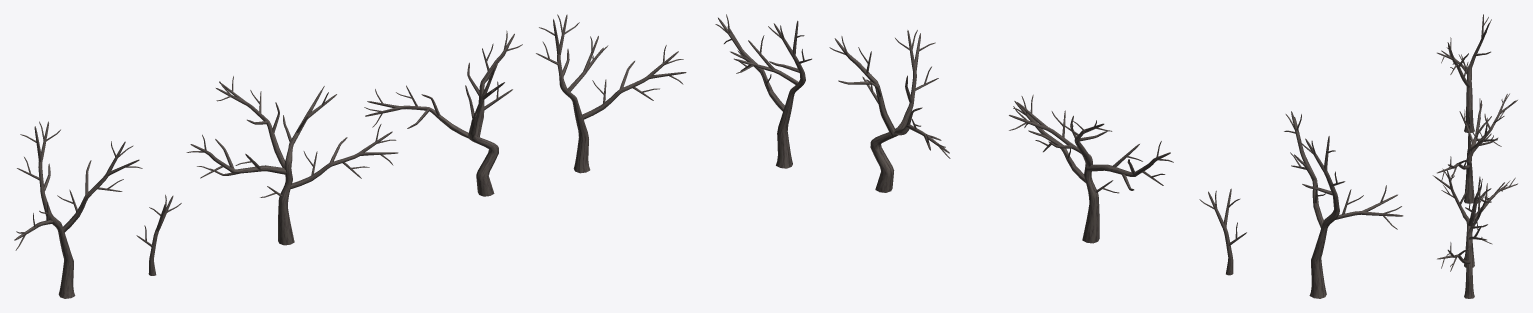
Rendered from dead.glb.
3 views of the same model, side by side, from view 1: azimuth 30°, elevation 25°; view 2: azimuth 150°, elevation 25°; view 3: azimuth 270°, elevation 25° (orthographic). The views are drawn at different scales.
Parts seen in each view (by area): view 1: DeadTree_8, DeadTree_7, DeadTree_6, DeadTree_10, DeadTree_9; view 2: DeadTree_8, DeadTree_7, DeadTree_10, DeadTree_6, DeadTree_9; view 3: DeadTree_8, DeadTree_10, DeadTree_7, DeadTree_6, DeadTree_9.
Boxes of the visible parts, x1,y1,x2,y2 form: DeadTree_8: (186, 76, 398, 245); DeadTree_7: (364, 30, 522, 196); DeadTree_6: (536, 14, 686, 173); DeadTree_10: (14, 121, 142, 298); DeadTree_9: (136, 194, 181, 275); DeadTree_8: (1009, 94, 1173, 243); DeadTree_7: (829, 30, 950, 192); DeadTree_10: (1284, 111, 1403, 298); DeadTree_6: (715, 14, 811, 168); DeadTree_9: (1199, 188, 1246, 275); DeadTree_8: (1437, 93, 1517, 203); DeadTree_10: (1437, 14, 1491, 132); DeadTree_7: (1432, 168, 1517, 267); DeadTree_6: (1437, 191, 1492, 298); DeadTree_9: (1459, 109, 1470, 149).
Bounding box in the file's own units: 29.75 × 7.13 × 5.03.
1 material, 1 textured.
